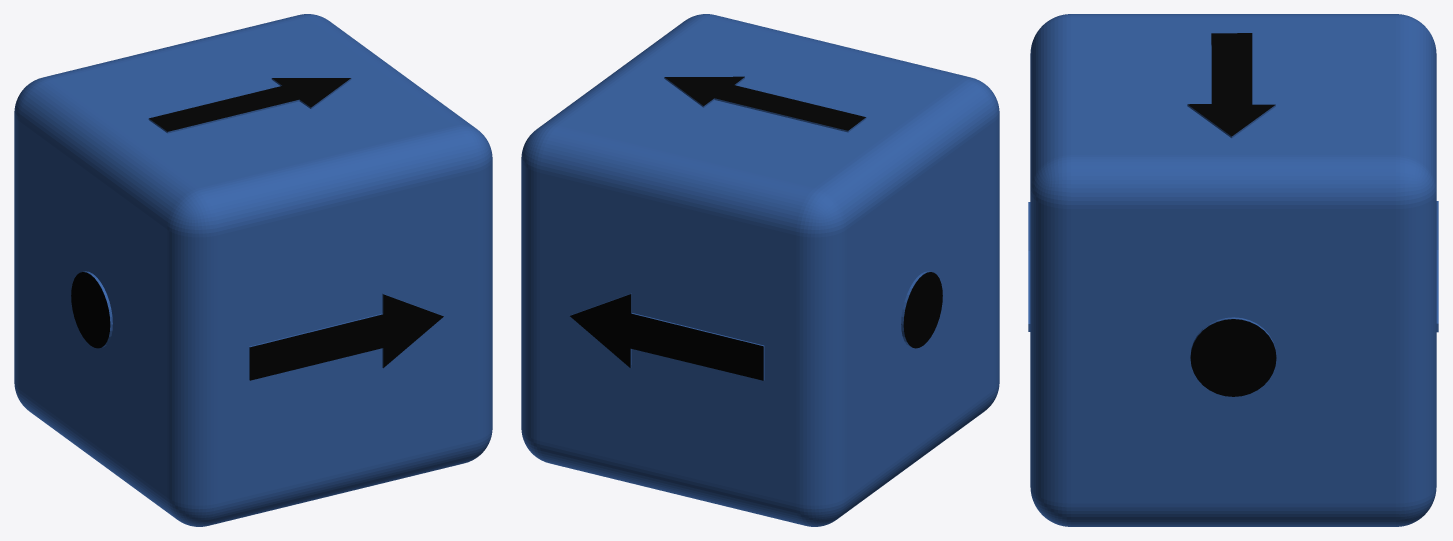
The picture shows the model from 3 angles, left to right: view 1: azimuth 30°, elevation 25°; view 2: azimuth 150°, elevation 25°; view 3: azimuth 270°, elevation 25°; orthographic projection. The views are drawn at different scales.
Parts seen in each view (by area): view 1: Cube; view 2: Cube; view 3: Cube.
Boxes of the visible parts, x1=… form: Cube: x1=14, y1=14, x2=492, y2=526; Cube: x1=521, y1=14, x2=999, y2=526; Cube: x1=1028, y1=14, x2=1438, y2=526.
Size of the model in its own units: 204 by 202 by 202.
